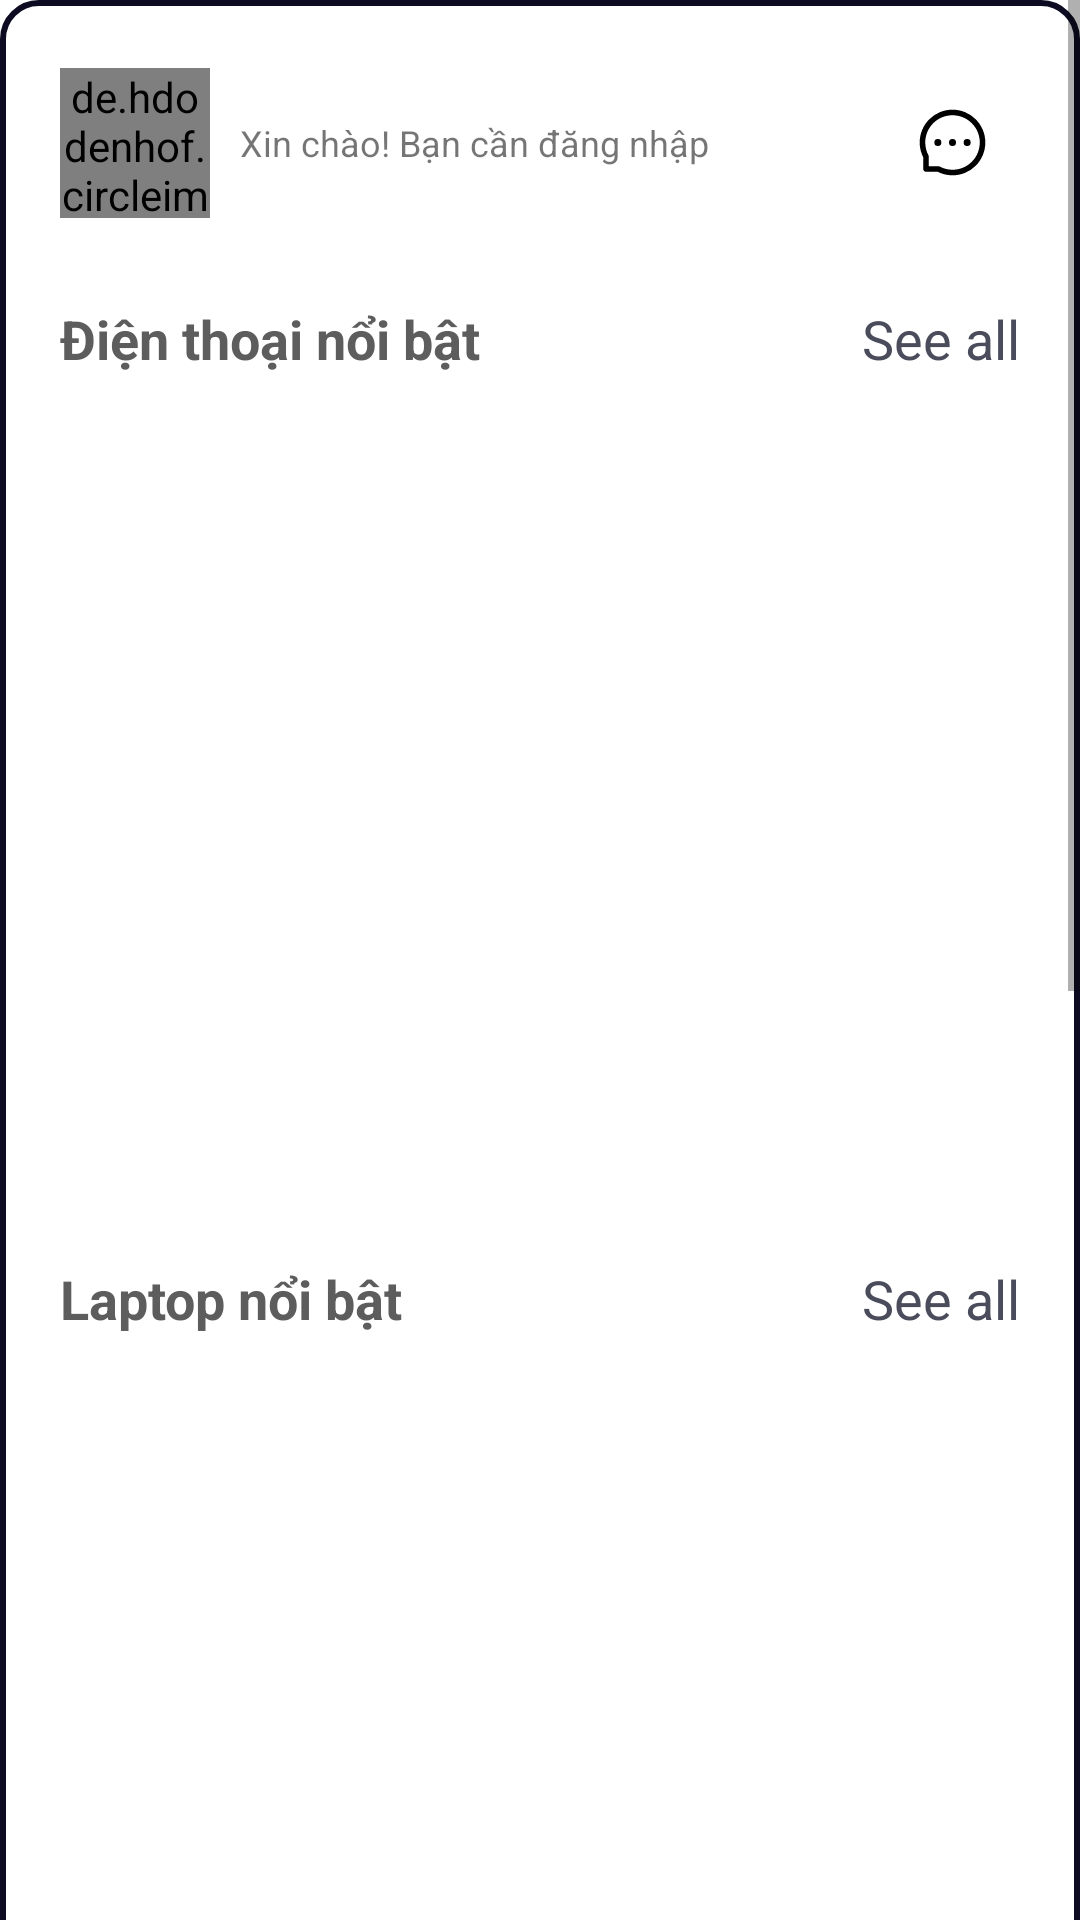

Icon click points for this 1080px×1920px phone screenshot, format (x=x, y=y):
message: (x=952, y=142)
